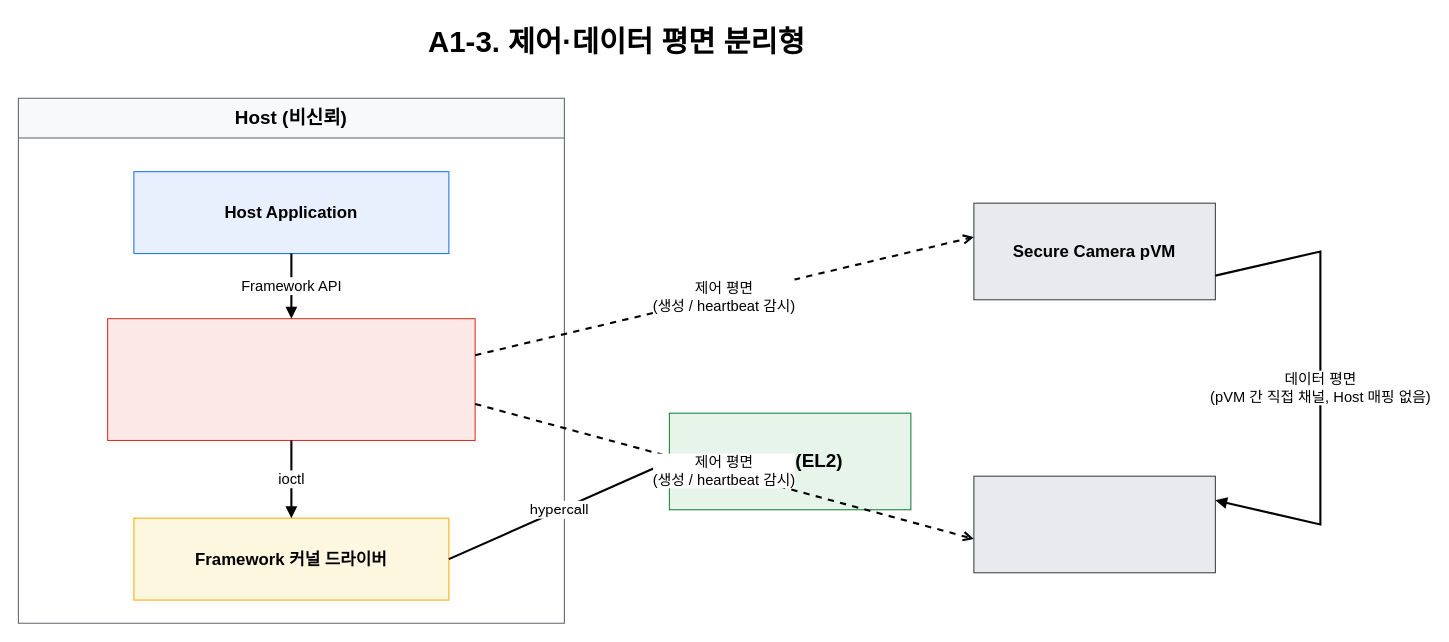
Image size: 1449x642. Some labels were removed from this diagram. Each missing label, with the centre of its shape:
pvm-managerd (제어 평면) 생성/검증/배선, 배선 후 데이터 경로 이탈: [291,379]
Secure AI pVM: [1094,524]
